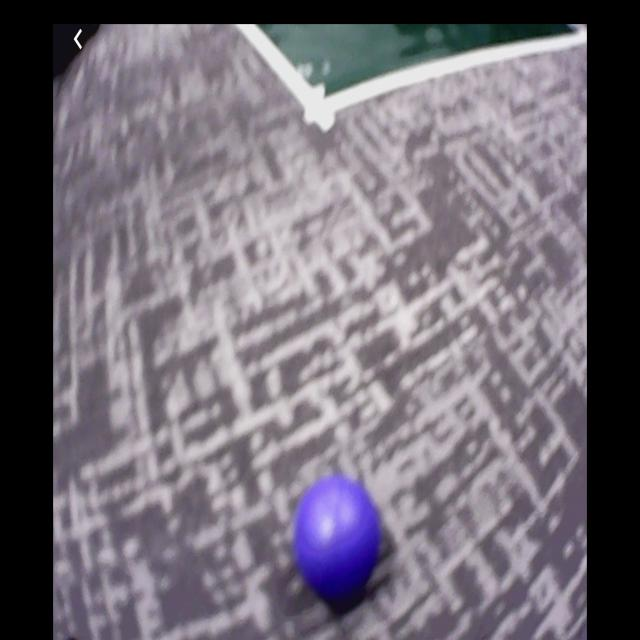ball: (294, 472, 378, 595)
